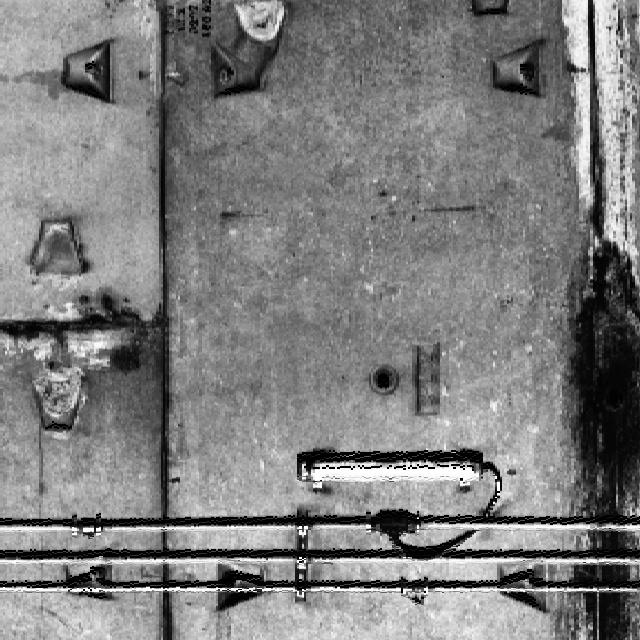leakage: (553, 0, 639, 639)
